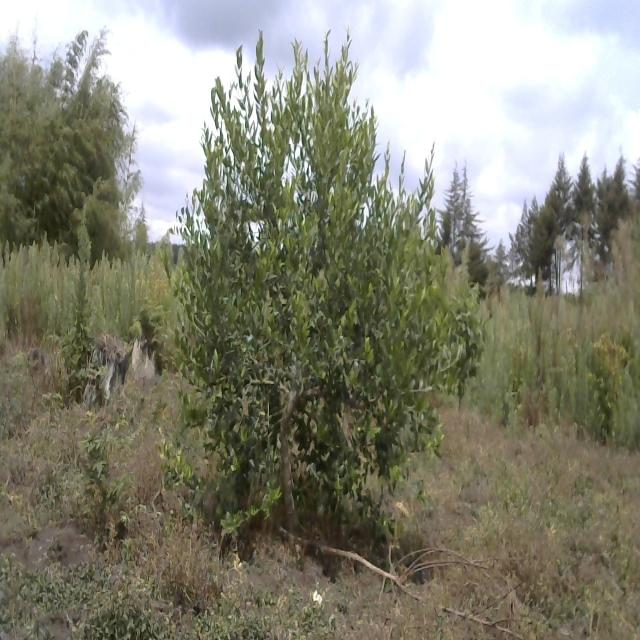Salix alba: (180, 39, 477, 562)
cedrus: (448, 148, 484, 266), (572, 145, 602, 234), (600, 150, 628, 233), (532, 172, 552, 287), (554, 142, 574, 248), (512, 190, 532, 284), (495, 236, 510, 288)
other: (0, 25, 124, 246)
